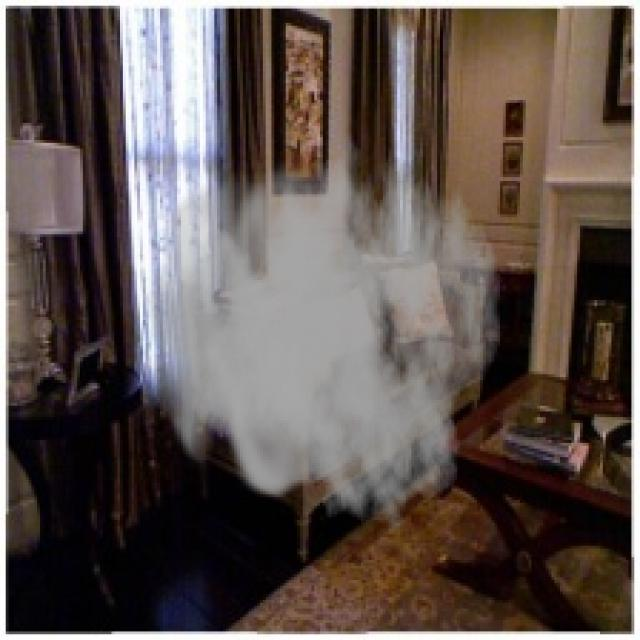smoke: (146, 111, 503, 534)
